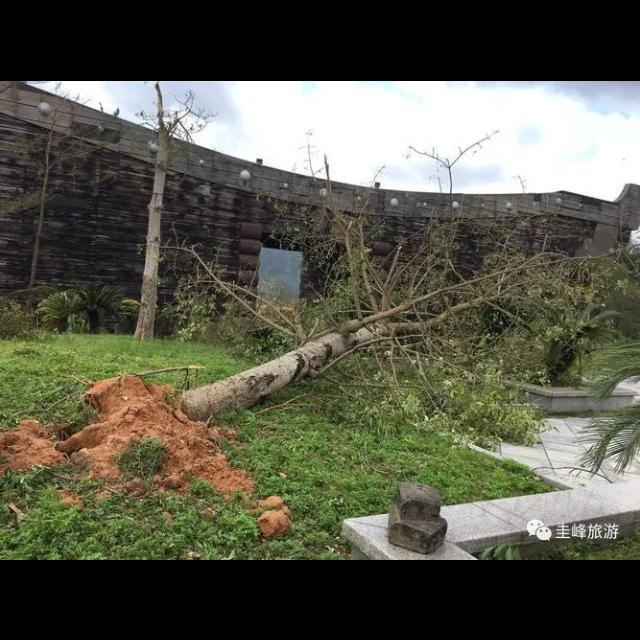fallen_tree: (151, 215, 617, 432)
